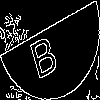B: (25, 25, 60, 80)
